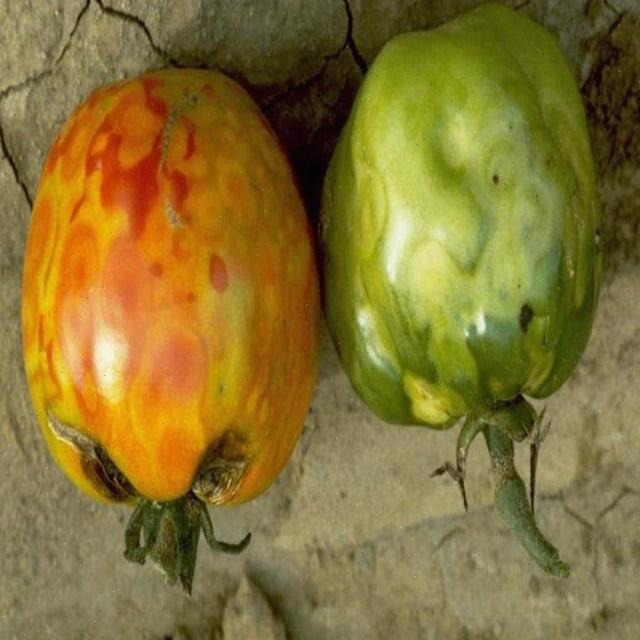Spotted wilt Virus Fruit: (185, 269, 359, 319)
